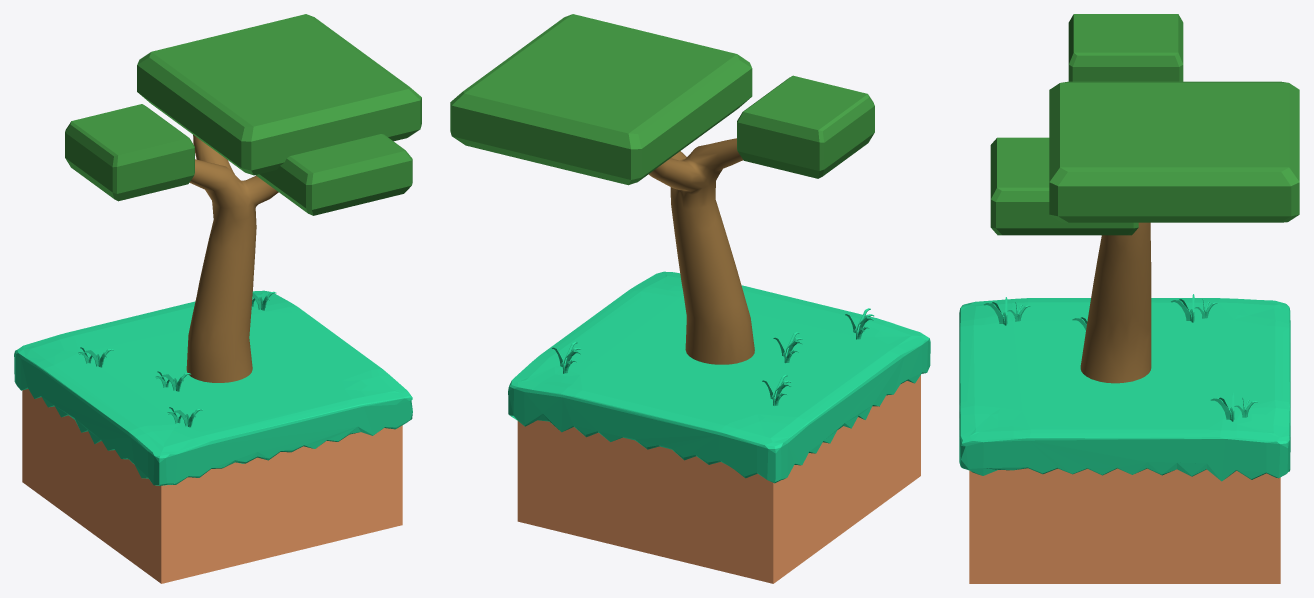
File: tree.fbx
3 views of the same model, side by side, from view 1: azimuth 30°, elevation 25°; view 2: azimuth 150°, elevation 25°; view 3: azimuth 270°, elevation 25° (orthographic). The views are drawn at different scales.
Parts seen in each view (by area): view 1: Cube.015, Cube.014, Cube.016, Cylinder.002, Cube.018, Cube.017; view 2: Cube.015, Cube.014, Cube.016, Cylinder.002, Cube.018; view 3: Cube.015, Cube.016, Cube.014, Cylinder.002, Cube.018, Cube.017.
Boxes of the visible parts, x1,y1,x2,y2 form: Cube.015: (14,290,412,485); Cube.014: (22,389,402,583); Cube.016: (137,14,421,175); Cylinder.002: (186,135,278,382); Cube.018: (65,104,194,201); Cube.017: (256,134,412,215); Cube.015: (508,271,930,483); Cube.014: (517,375,920,583); Cube.016: (450,14,752,185); Cylinder.002: (648,138,754,364); Cube.018: (737,75,874,178); Cube.015: (959,298,1290,481); Cube.016: (1049,81,1299,222); Cube.014: (969,468,1280,583); Cylinder.002: (1080,222,1151,383); Cube.018: (1068,14,1183,81); Cube.017: (990,137,1138,235).
Bounding box in the file's own units: 510 × 626 × 437.
